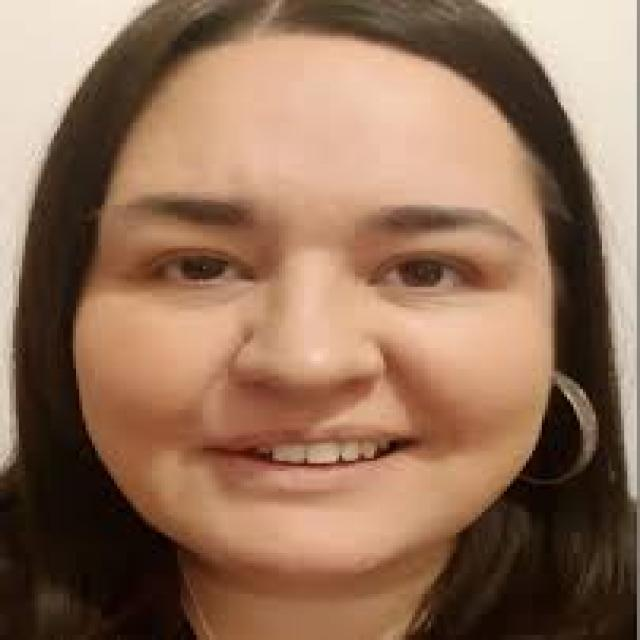stroke_face: (74, 22, 559, 579)
